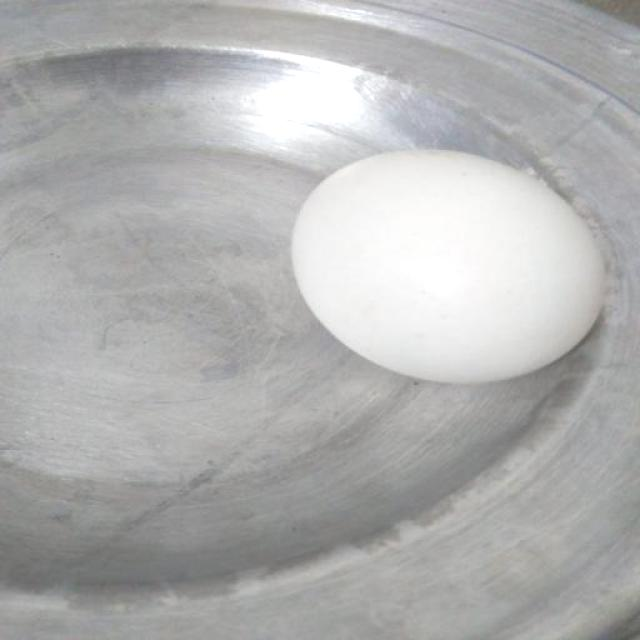telur: (286, 148, 600, 385)
